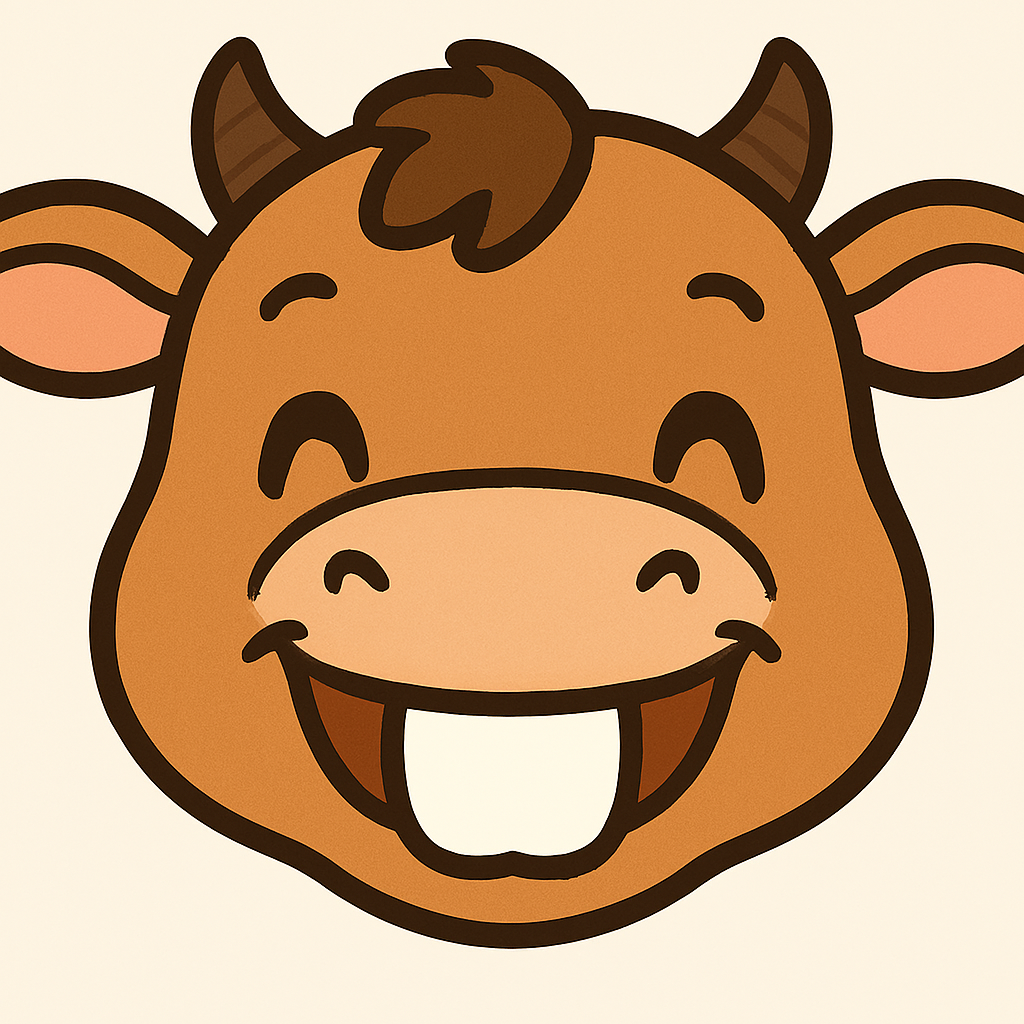Tand: (386, 688, 642, 883)
